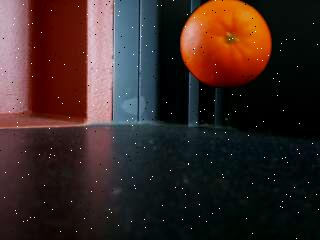Orange: (179, 0, 273, 89)
